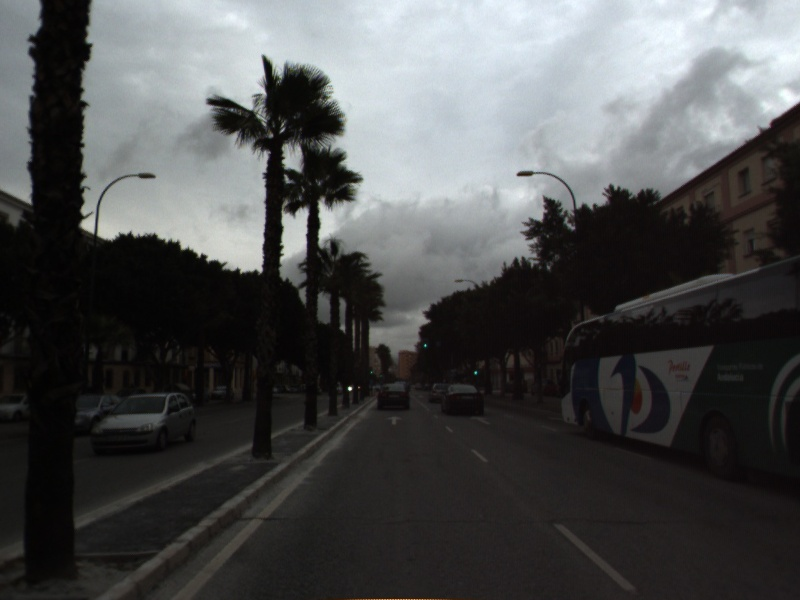STRAIGHT: (467, 413, 493, 426), (383, 413, 406, 427)
